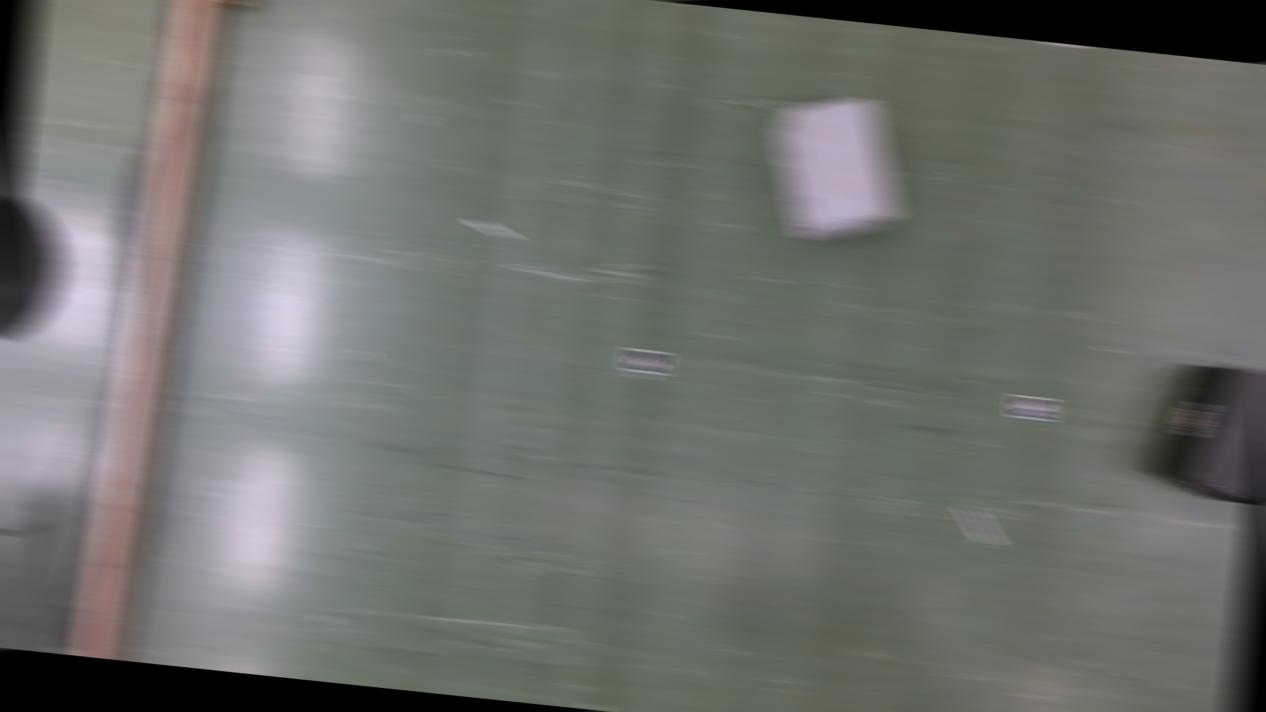probes: (959, 508, 1002, 546), (470, 218, 518, 242)
rako: (760, 86, 909, 252), (1142, 355, 1266, 506)
